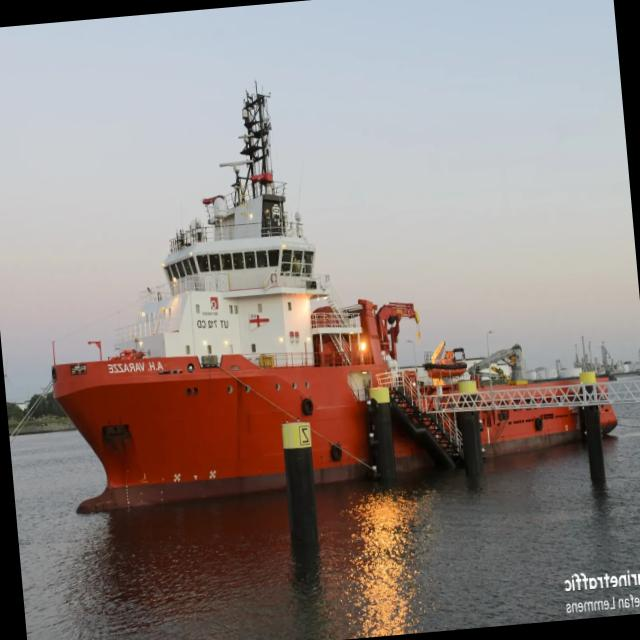Offshore: (52, 91, 583, 512)
